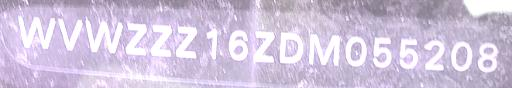letter: (13, 13, 57, 50), (82, 17, 122, 56), (306, 32, 342, 68), (148, 23, 176, 59), (368, 34, 396, 70), (251, 28, 277, 66), (56, 16, 84, 50), (224, 28, 250, 64), (278, 29, 304, 65), (175, 24, 201, 58), (396, 36, 422, 70), (446, 40, 474, 71), (124, 21, 148, 57), (343, 35, 369, 67), (476, 40, 502, 71), (202, 26, 224, 62), (422, 39, 446, 71)
